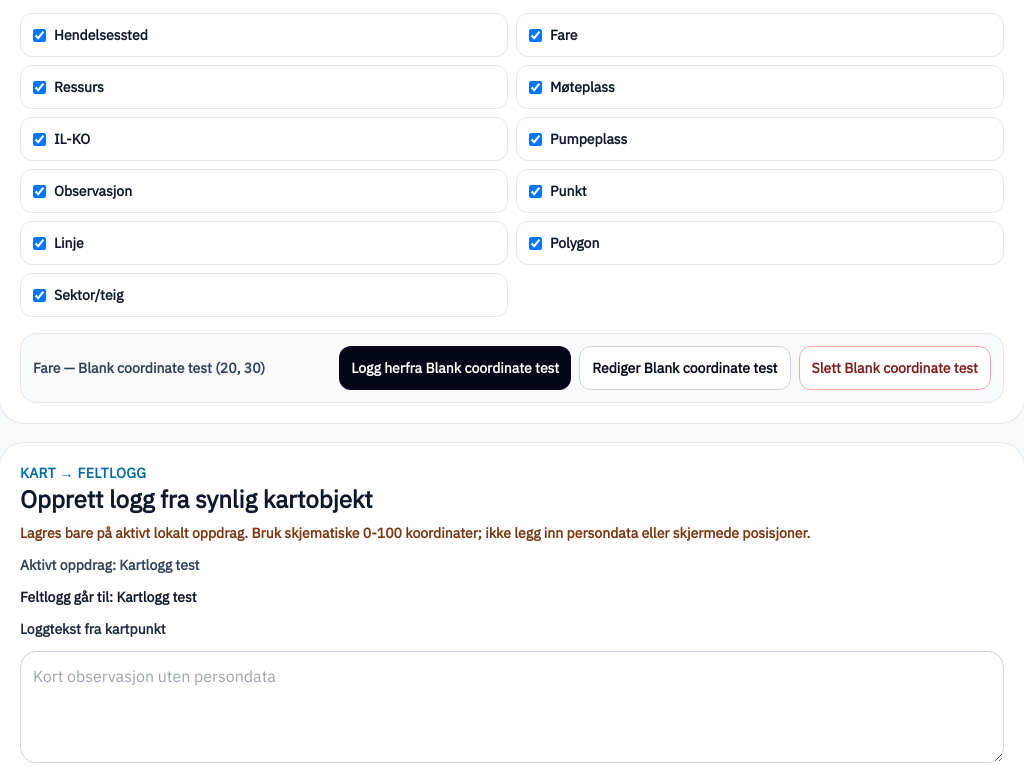
it: rejects a blank coordinate when editing a local marker
The image size is (1024, 766).
(page scrolled)
Click the button "Rediger Blank coordinate test" at [685, 368], box [579,346,790,390]
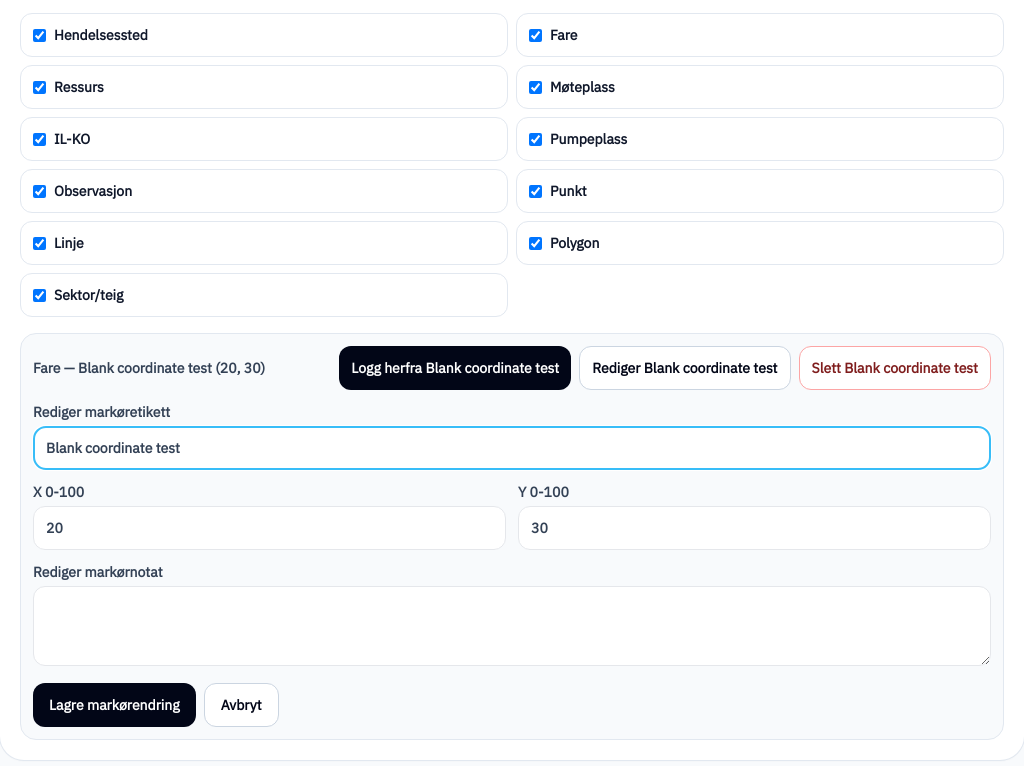
Clear the number field named "Rediger markør X 0-100" at [270, 528], box [33,506,506,550]
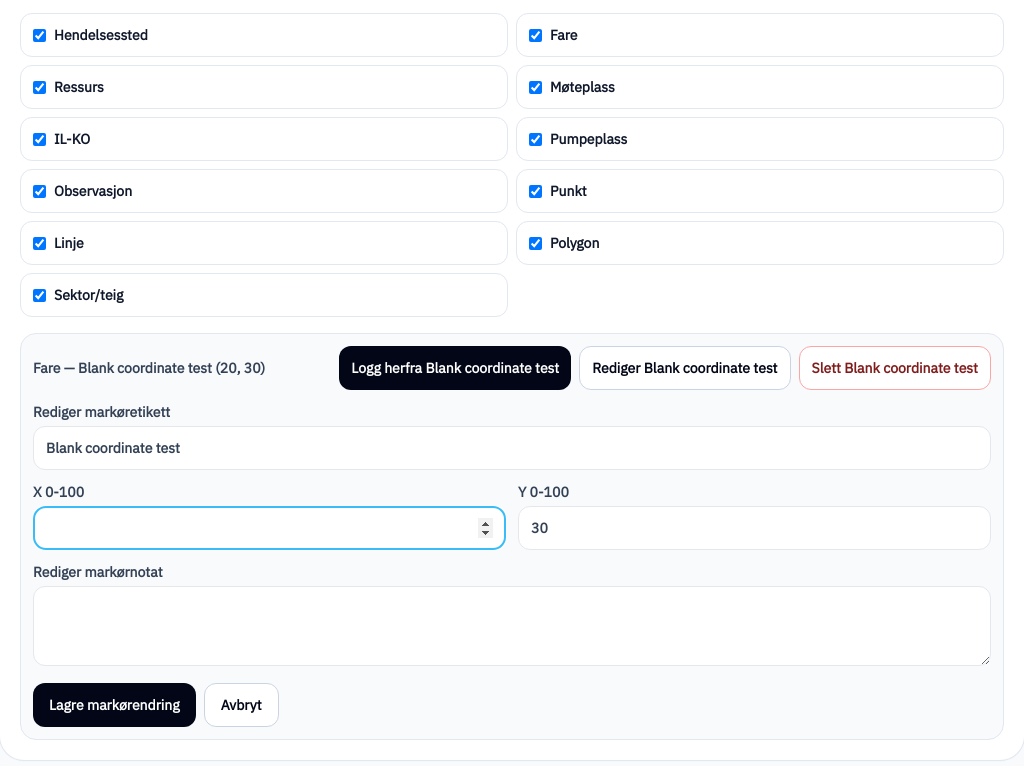
Click the button "Lagre markørendring" at [114, 705], box [33,683,196,727]
(page scrolled)
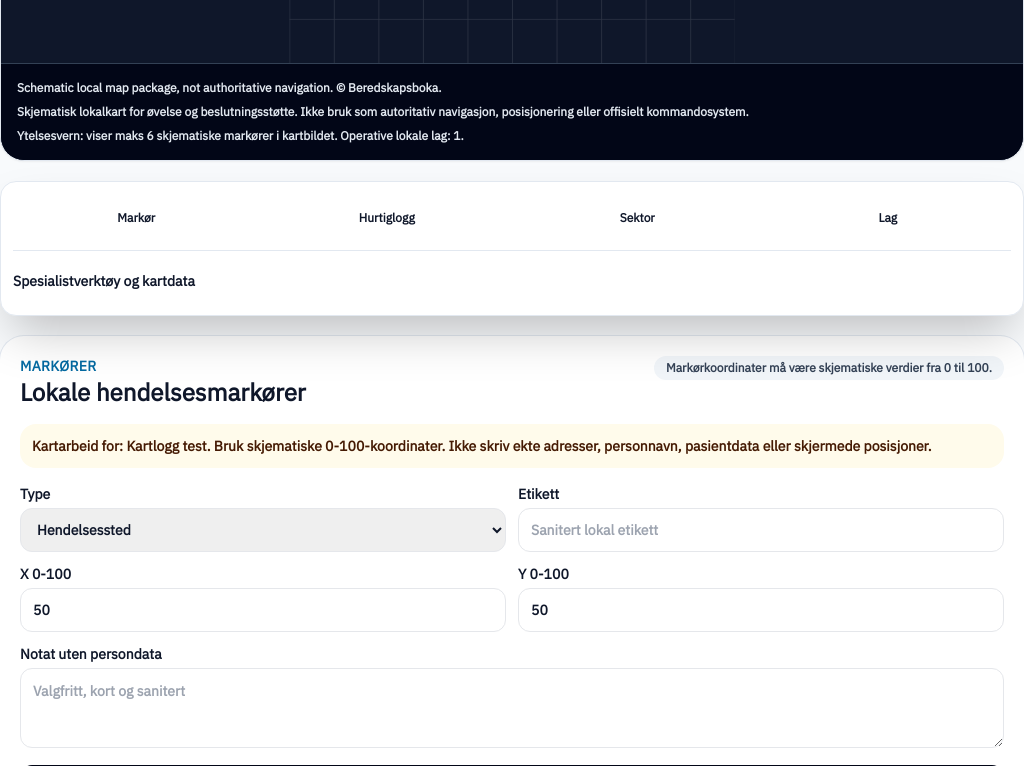
Check: the text with test id "operations-map-status" reads "Markørkoordinater må være skjematiske verdier fra 0 til 100.", box [666,360,992,375]
